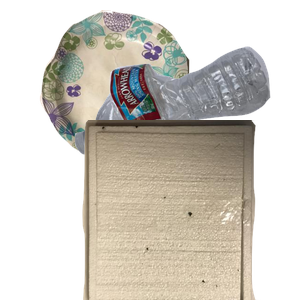glass: (86, 120, 277, 300)
paper: (37, 10, 219, 167)
plastic: (72, 44, 300, 200)
trash: (80, 120, 300, 300)
